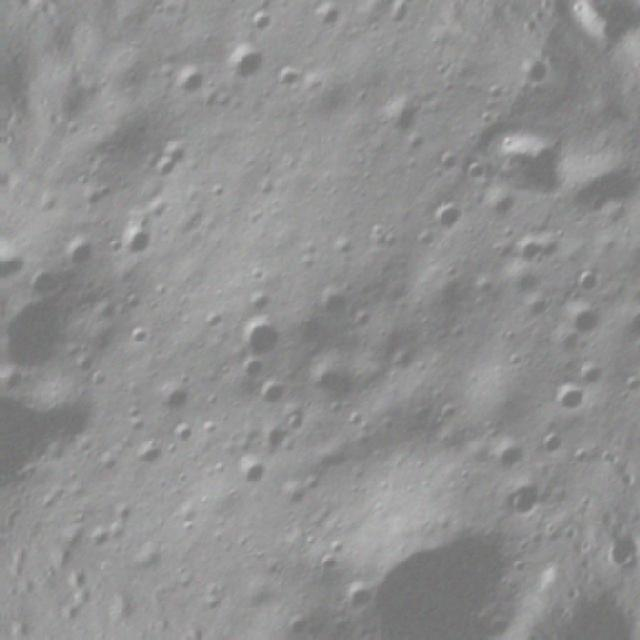crater: (346, 500, 528, 640), (0, 342, 106, 533), (481, 121, 577, 208), (0, 292, 71, 390), (227, 313, 287, 373), (212, 35, 268, 90), (540, 375, 592, 430), (20, 259, 72, 310), (496, 478, 546, 527), (146, 136, 191, 187), (304, 279, 351, 327), (380, 90, 425, 138), (123, 433, 169, 476), (481, 436, 524, 482), (247, 371, 290, 415), (150, 374, 192, 418), (561, 300, 604, 342), (0, 239, 31, 295), (332, 576, 373, 618), (226, 452, 269, 492), (612, 294, 640, 355), (56, 233, 96, 275), (119, 223, 158, 266), (426, 196, 468, 235), (236, 283, 275, 322), (236, 5, 276, 43), (303, 0, 346, 35), (568, 353, 606, 392), (571, 260, 606, 302), (272, 606, 314, 640), (120, 318, 157, 356), (530, 422, 565, 462), (169, 65, 205, 103), (558, 438, 593, 476), (510, 235, 548, 270), (0, 282, 15, 366), (160, 416, 198, 449), (233, 352, 267, 388), (455, 156, 491, 190), (426, 145, 460, 180), (254, 423, 289, 455), (277, 406, 308, 440), (193, 304, 224, 336), (398, 130, 429, 162), (386, 349, 416, 382), (306, 551, 336, 583), (433, 400, 462, 429), (320, 534, 346, 560), (155, 0, 202, 11), (220, 0, 274, 5)
